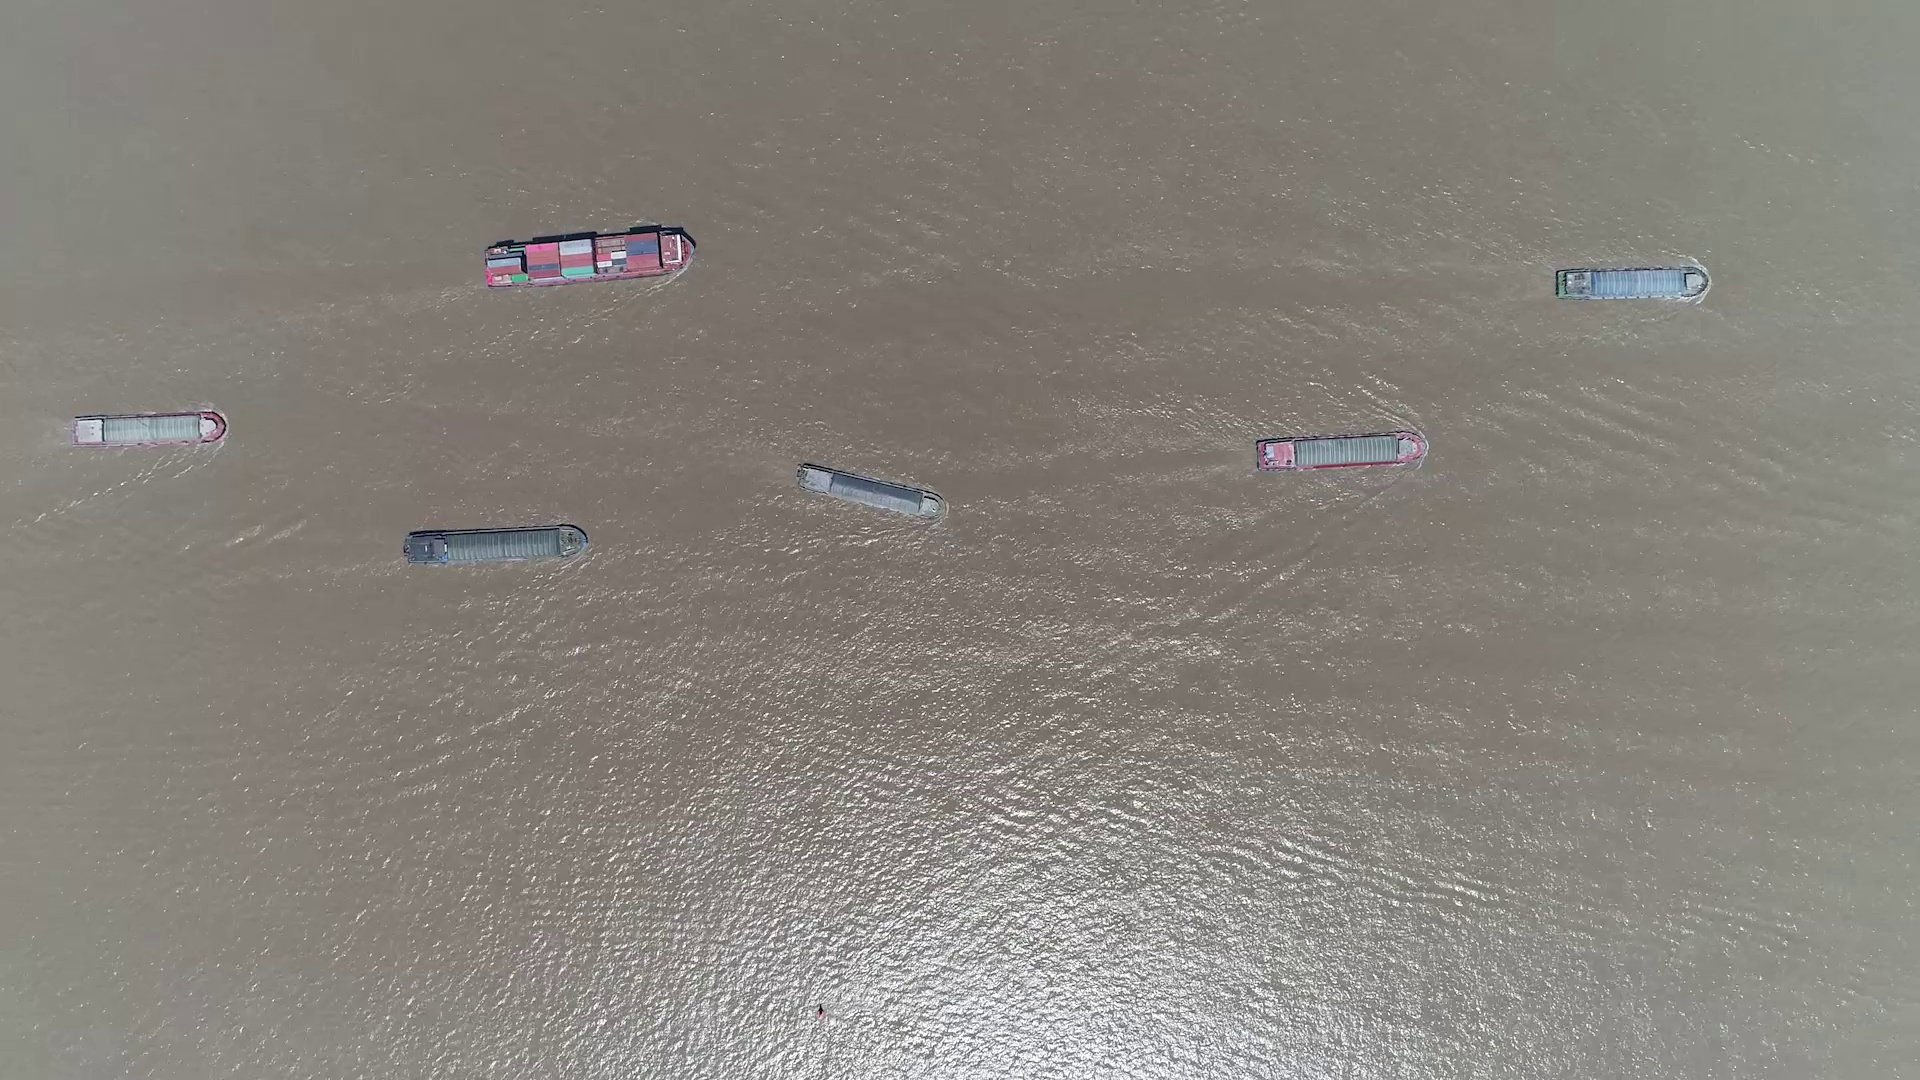ship: (484, 229, 694, 289), (796, 463, 942, 520), (404, 525, 585, 566), (1257, 433, 1428, 471), (73, 411, 223, 446), (1557, 266, 1705, 301)
